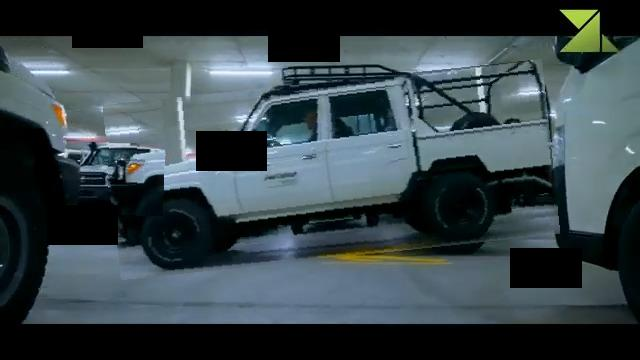MIL_HMMWV: (107, 71, 557, 269), (79, 142, 165, 216)
